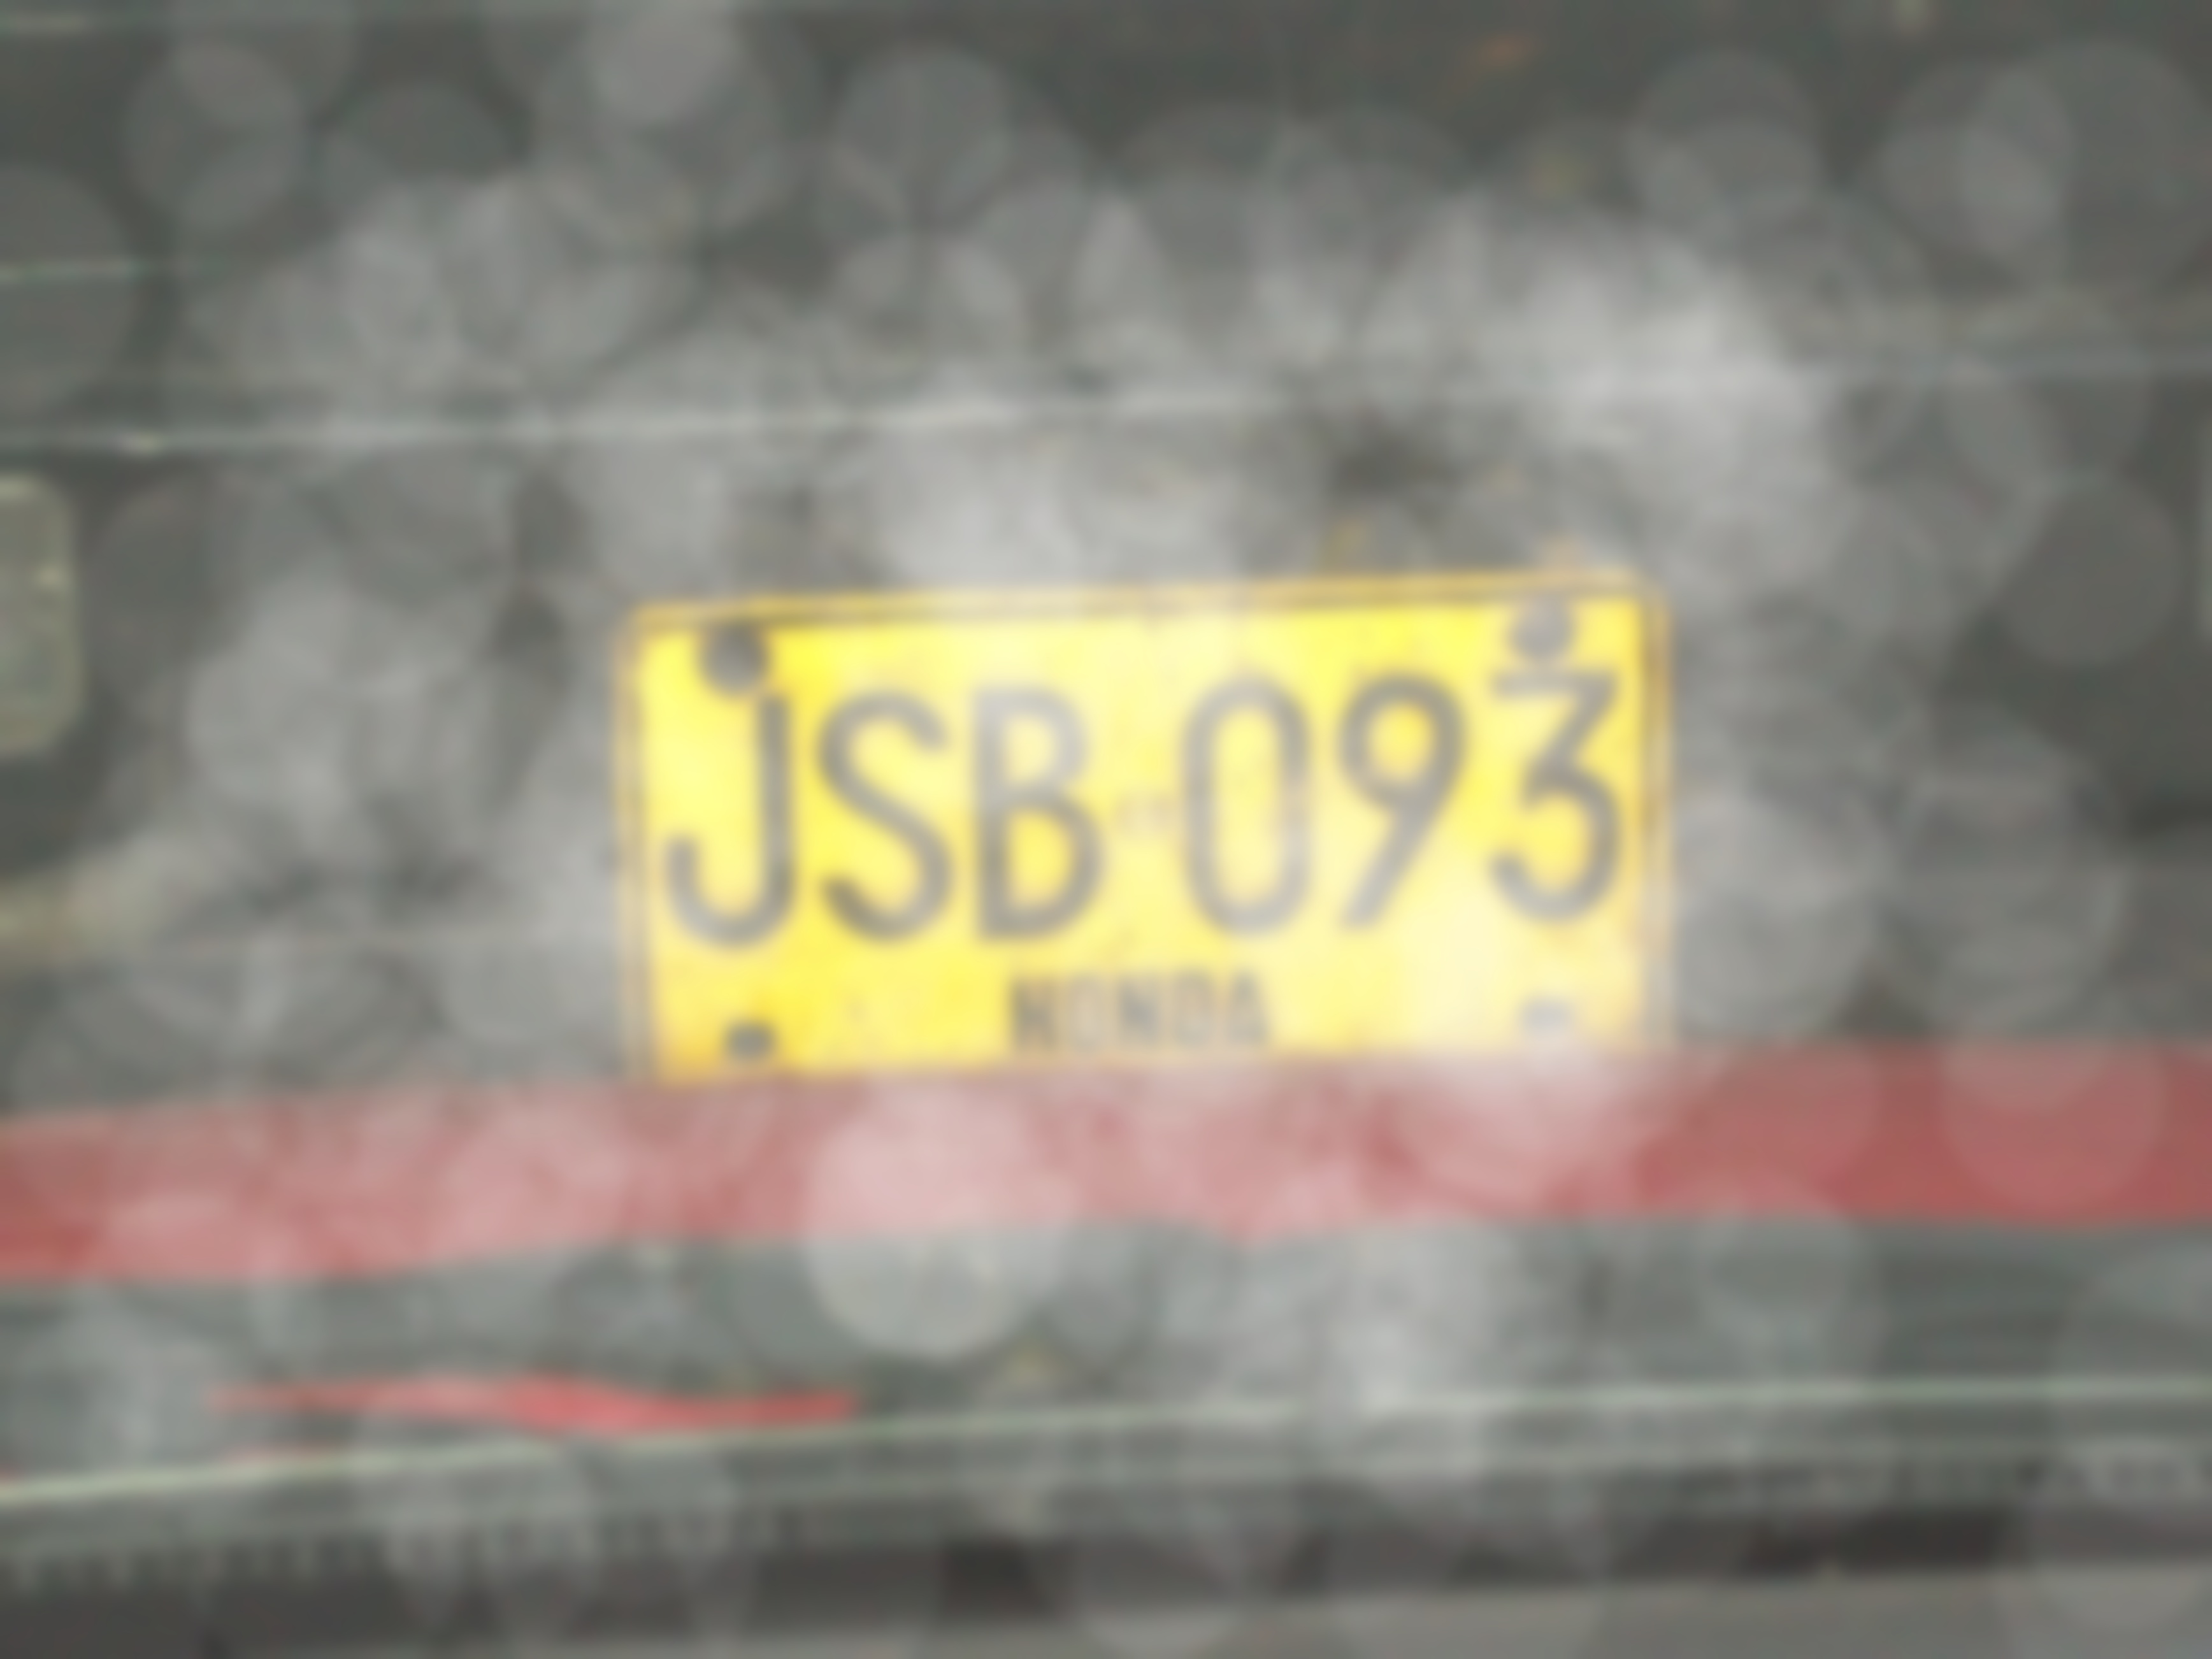placas: (607, 564, 1683, 1095)
